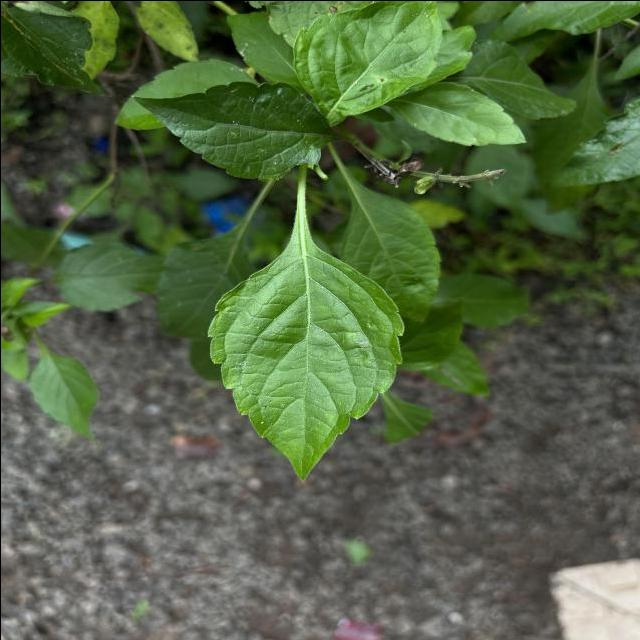Ocimum gratissimum: (204, 207, 408, 487), (126, 76, 340, 182), (288, 1, 444, 122), (374, 78, 528, 149)
